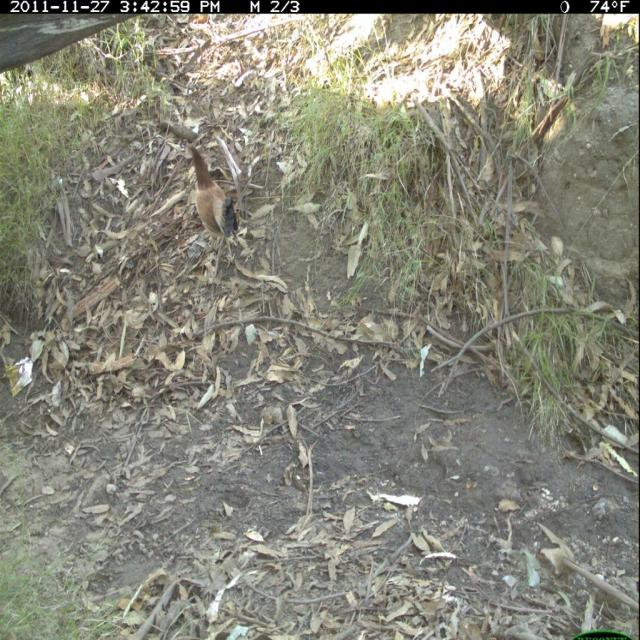bird: (182, 127, 250, 267)
